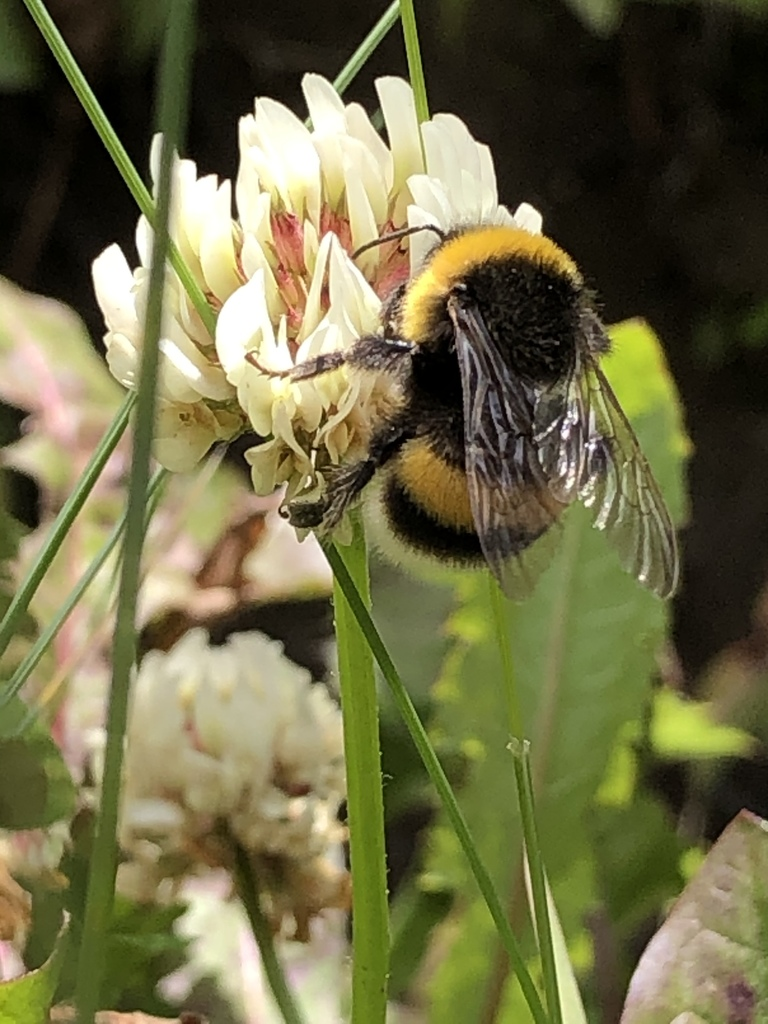bumblebee: (242, 217, 683, 607)
